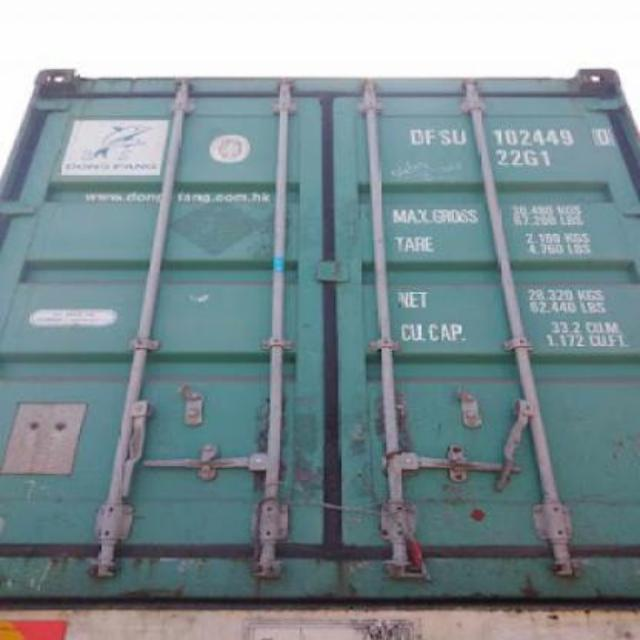0: (504, 129, 518, 145), (596, 129, 610, 145)
1: (494, 127, 506, 145)
2: (520, 129, 534, 147)
4: (548, 127, 560, 147), (534, 129, 546, 147)
9: (560, 129, 574, 147)
D: (411, 127, 424, 147)
F: (426, 127, 436, 147)
S: (440, 129, 452, 145)
U: (454, 127, 466, 147)
